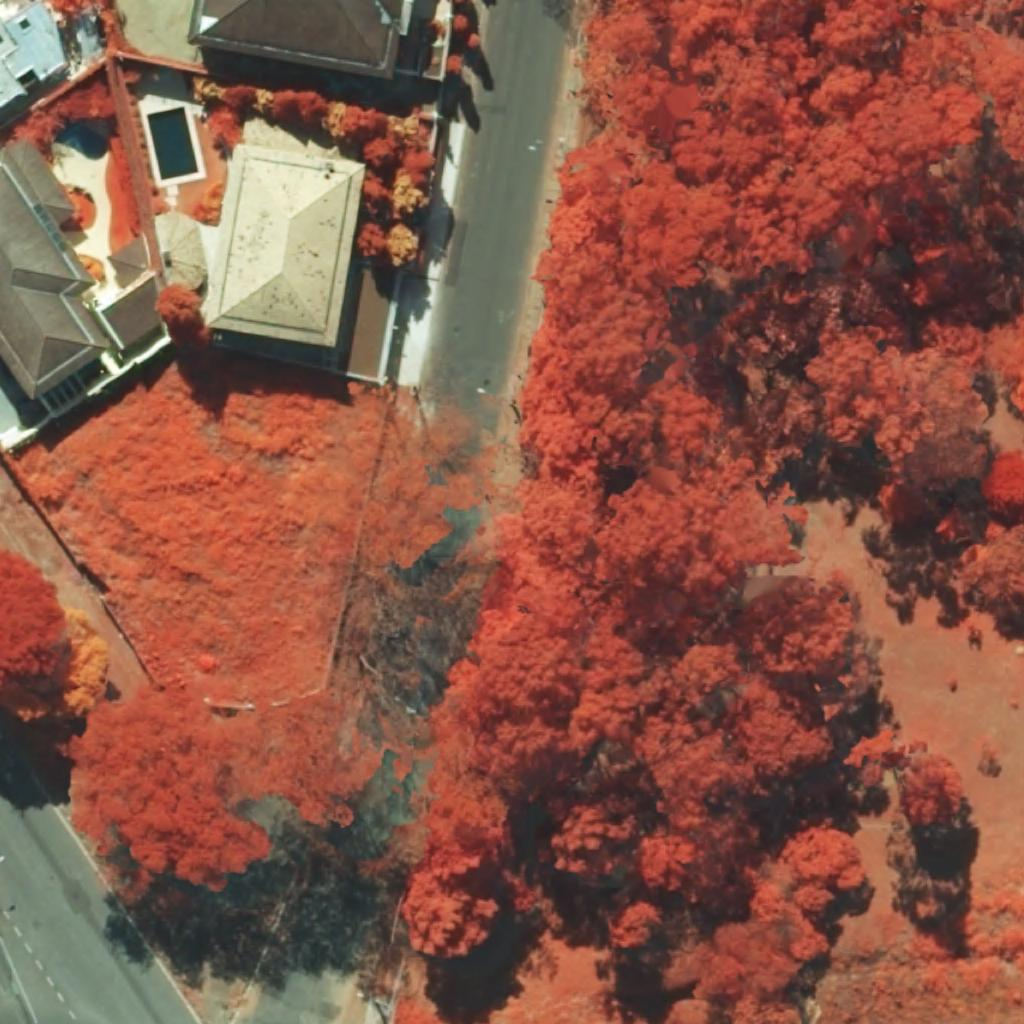pool: (147, 106, 199, 181), (54, 122, 109, 161)
